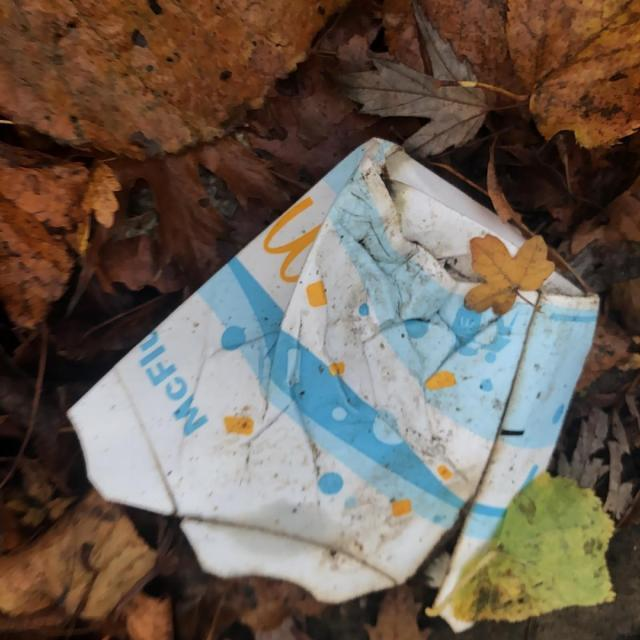Paper: (61, 129, 606, 640)
